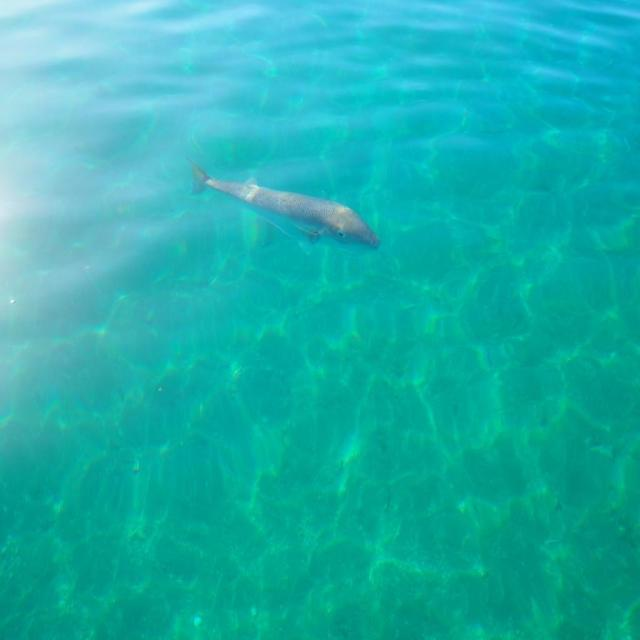Balon Baligi: (185, 155, 381, 253)
